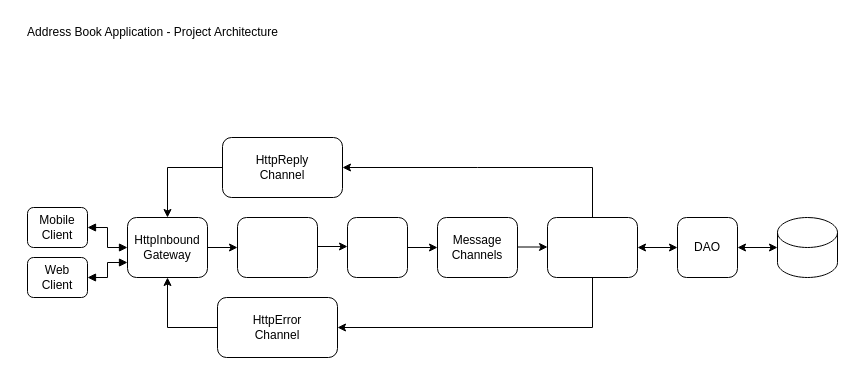
The diagram is 855 pixels wide and 375 high, and some of its shapes have lost their labels. The shapes that lost their labels are listed below. From the top down, each one's centre as x and y in pixels, then its label:
At pixel 277 247: "HttpRequest Channel".
At pixel 377 247: "Router".
At pixel 592 247: "Service Activator".
At pixel 807 247: "H2 DB".
